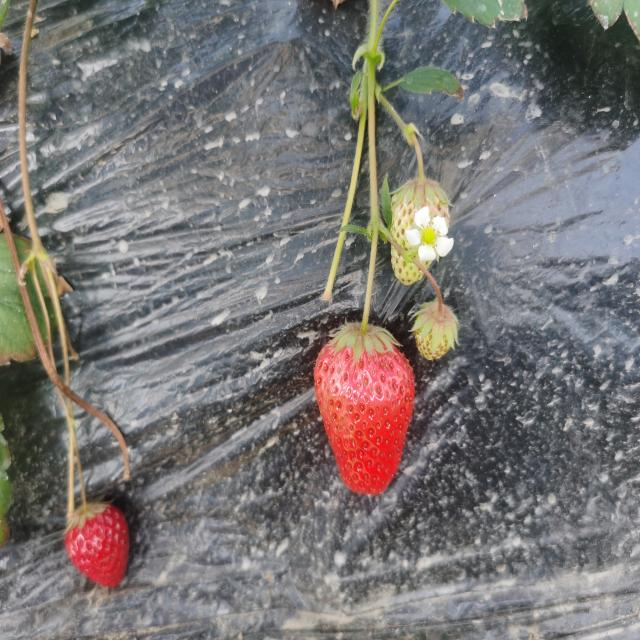stem: (359, 263, 375, 336), (79, 468, 89, 514)
strawberry: (314, 324, 415, 494), (65, 502, 129, 588)
